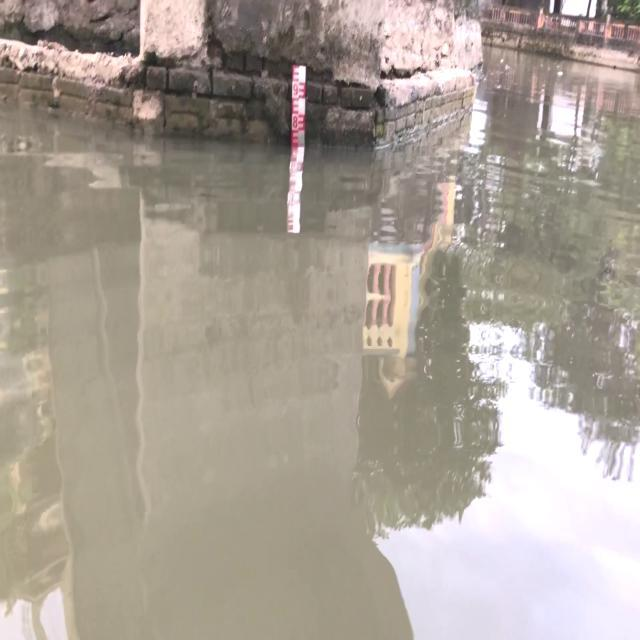ruler: (287, 60, 311, 153)
value: (292, 80, 299, 98), (292, 113, 298, 130)
